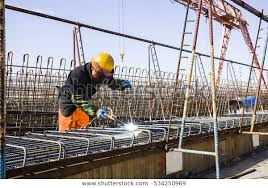helmet: (93, 54, 116, 74)
